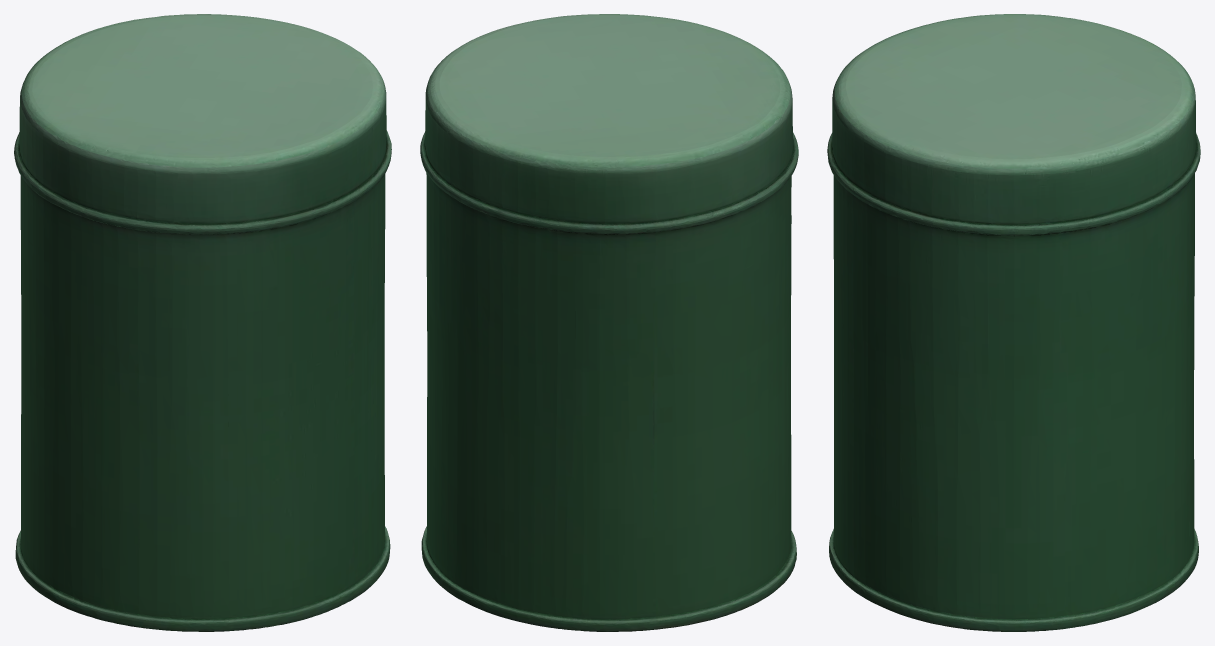
Rendered from tin.glb.
3 views of the same model, side by side, from view 1: azimuth 30°, elevation 25°; view 2: azimuth 150°, elevation 25°; view 3: azimuth 270°, elevation 25° (orthographic).
Visible parts, largest first — view 1: geometry_0; view 2: geometry_0; view 3: geometry_0.
Part boxes in pixels (bbox=[...]): geometry_0: bbox=[14, 14, 391, 631]; geometry_0: bbox=[420, 14, 798, 631]; geometry_0: bbox=[827, 14, 1200, 631].
Size of the model in its own units: 0.7338 by 0.9999 by 0.7252.
Materials: 1 (1 with a texture image).
